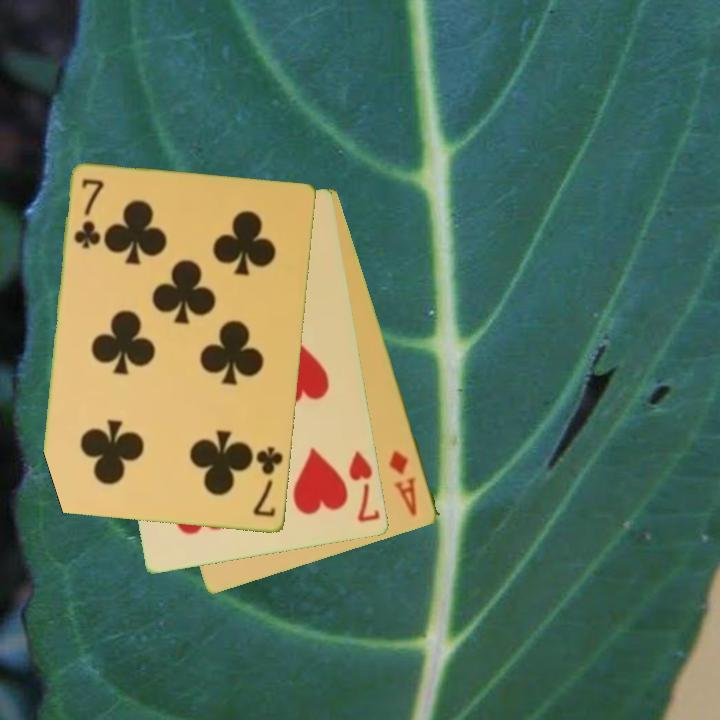7c: (250, 443, 286, 520), (71, 175, 107, 252)
7h: (345, 448, 383, 526)
Ad: (386, 447, 421, 520)
